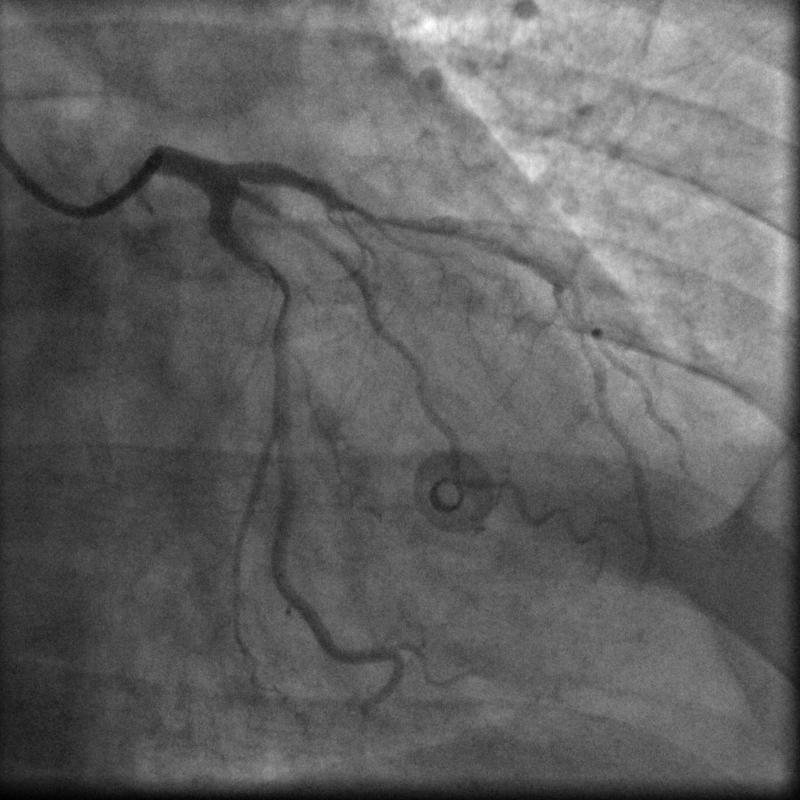Stenosis: (342, 201, 445, 239)
